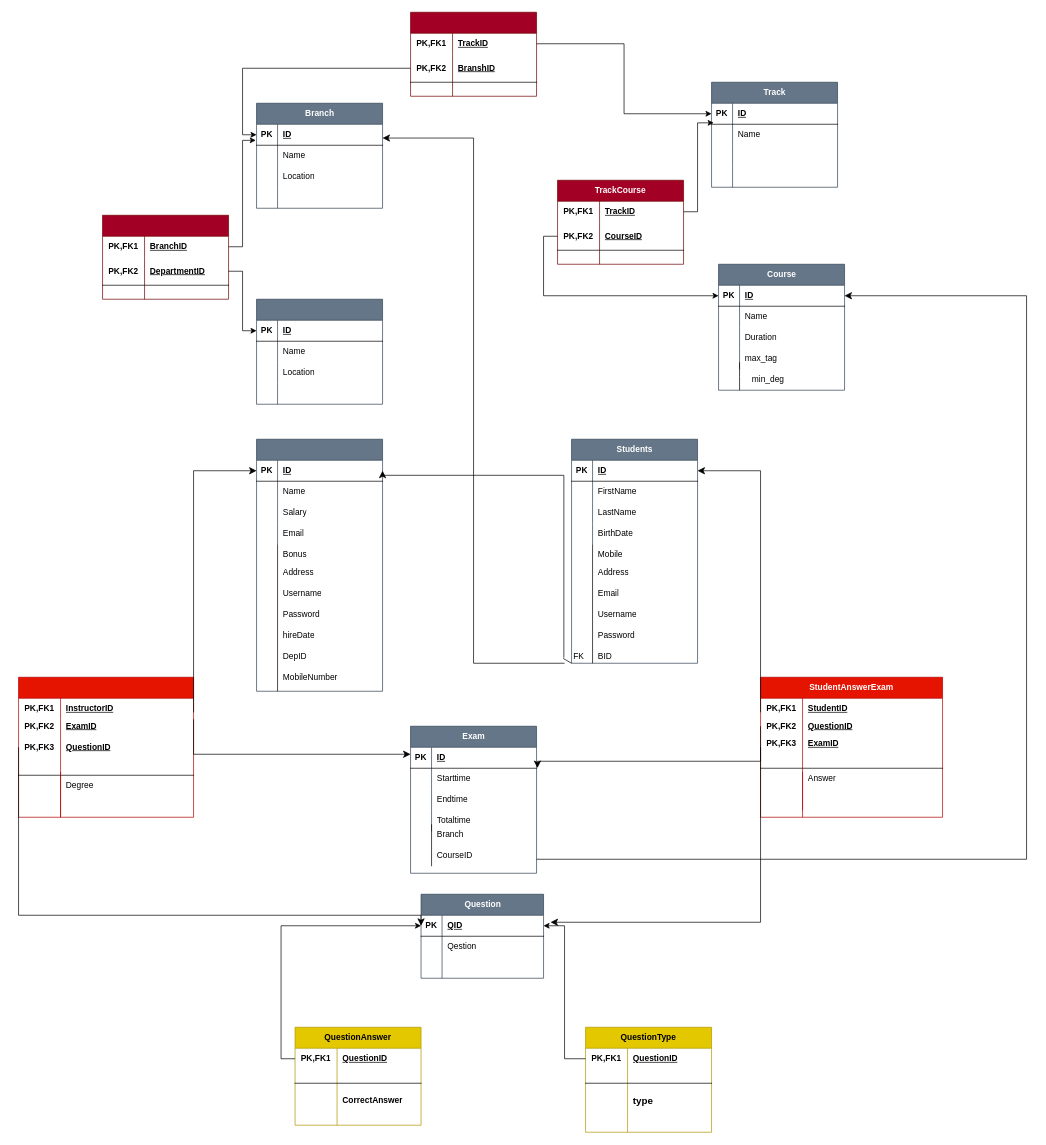
The diagram is 1046 pixels wide and 1145 high, and some of its shapes have lost their labels. Here are the shapes that lost their labels. From the top down, the box of each, then its label:
(410, 12, 537, 96): TrackBranch
(102, 215, 229, 299): DepartmentBranch
(256, 299, 383, 404): Department
(256, 439, 383, 691): Instructor
(18, 677, 194, 817): InstructorQuestionExam
